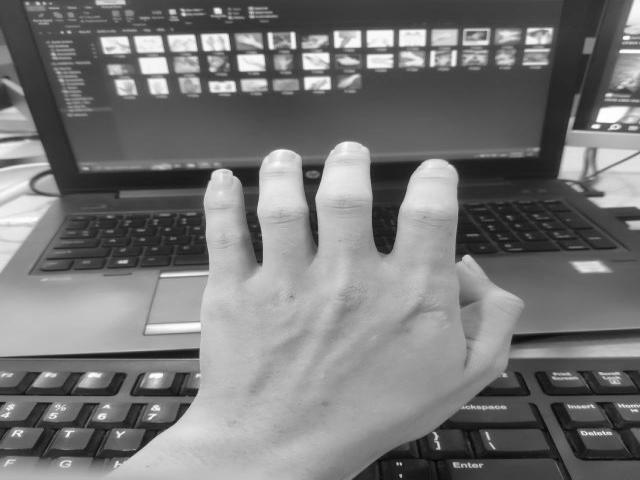not-gloved: (189, 137, 523, 433)
